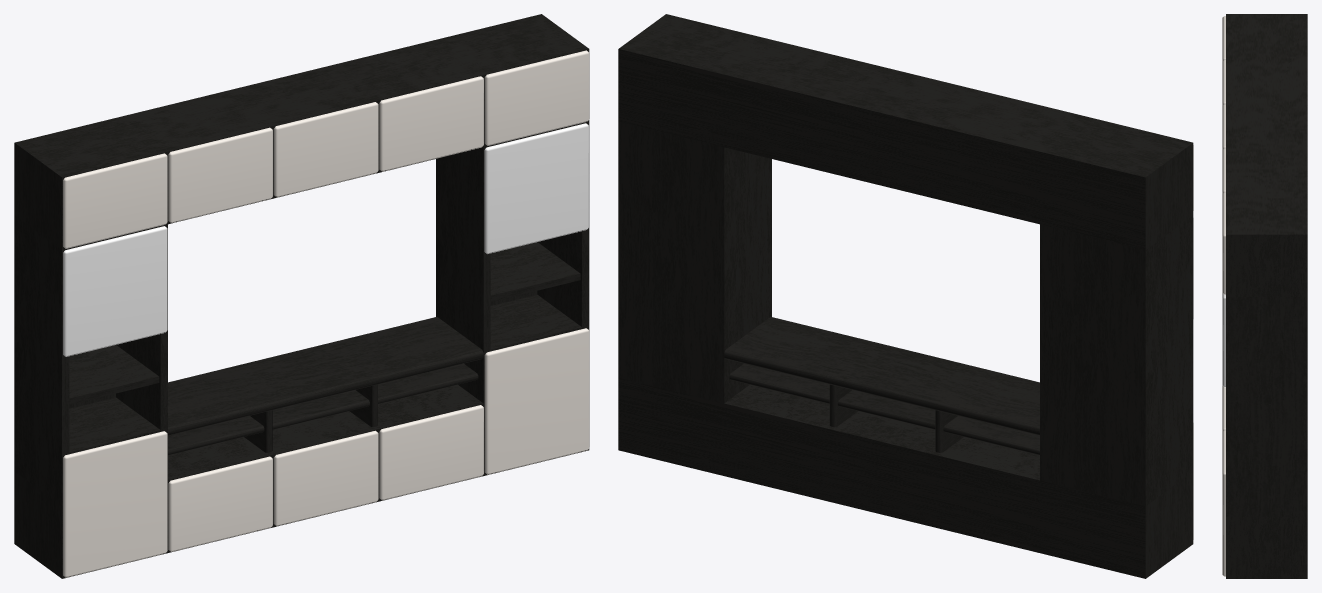
File: wall_cabinet_009.fbx
3 views of the same model, side by side, from view 1: azimuth 30°, elevation 25°; view 2: azimuth 150°, elevation 25°; view 3: azimuth 270°, elevation 25° (orthographic). The views are drawn at different scales.
Parts seen in each view (by area): view 1: wall_cabinet_009; view 2: wall_cabinet_009; view 3: wall_cabinet_009.
Part boxes in pixels (bbox=[...]): wall_cabinet_009: bbox=[14, 14, 589, 578]; wall_cabinet_009: bbox=[618, 14, 1193, 578]; wall_cabinet_009: bbox=[1222, 14, 1307, 578].
Bounding box in the file's own units: 402 × 65.77 × 293.
